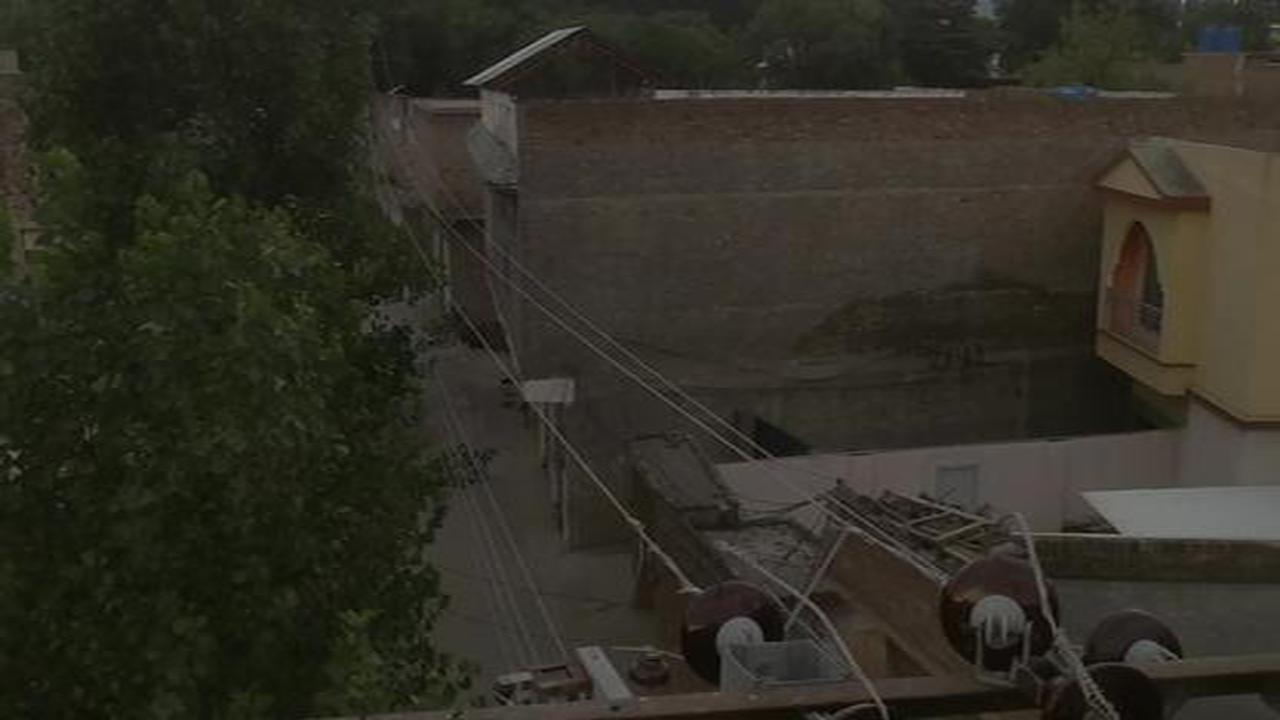insulator_disc: (932, 559, 1066, 661), (672, 582, 788, 679), (1081, 613, 1188, 668)
